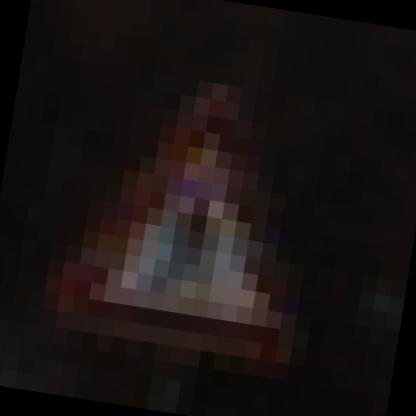crosswalk: (38, 73, 340, 386)
